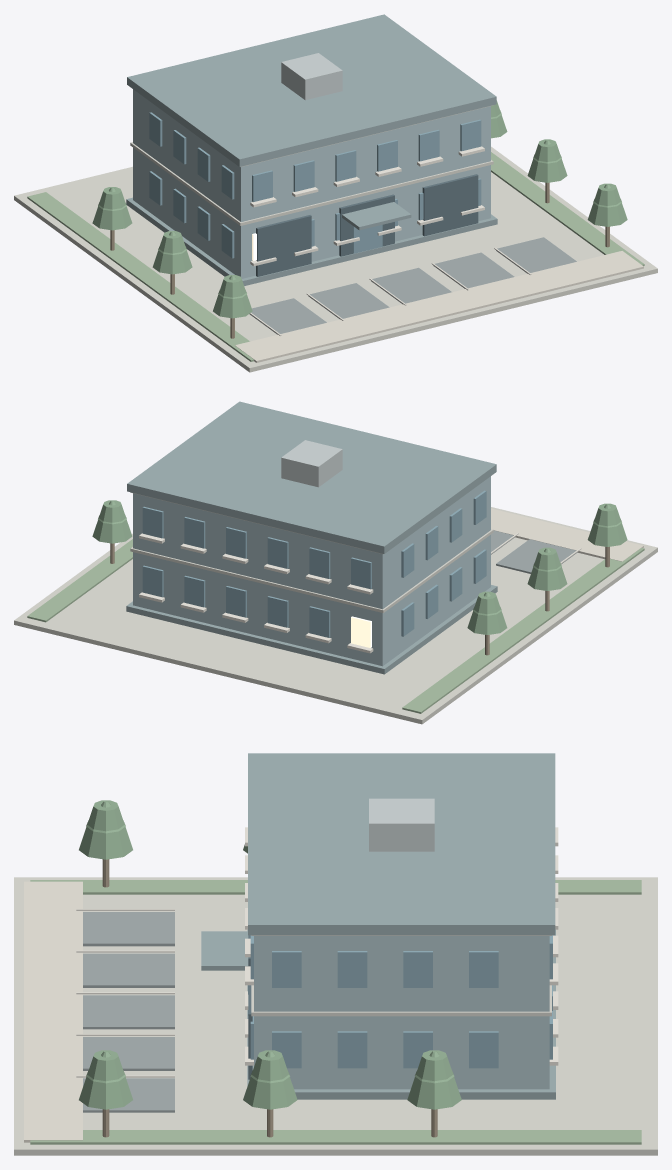
File: remaster_police.glb
3 views of the same model, one above another, from view 1: azimuth 30°, elevation 25°; view 2: azimuth 150°, elevation 25°; view 3: azimuth 270°, elevation 25° (orthographic). The views are drawn at different scales.
Visible parts, largest first — view 1: remaster_police roof, remaster_police stone, remaster_police blue, remaster_police cream, remaster_police asphalt, remaster_police glass, remaster_police green, remaster_police leaf, remaster_police dark, remaster_police metal, remaster_police white, remaster_police bark; view 2: remaster_police roof, remaster_police stone, remaster_police blue, remaster_police glass, remaster_police green, remaster_police leaf, remaster_police cream, remaster_police metal, remaster_police white, remaster_police asphalt, remaster_police warm; view 3: remaster_police stone, remaster_police roof, remaster_police blue, remaster_police cream, remaster_police asphalt, remaster_police green, remaster_police glass, remaster_police leaf, remaster_police metal, remaster_police white, remaster_police bark.
Part boxes in pixels (x1,y1,x2,y2): remaster_police roof: [126, 14, 497, 285]; remaster_police stone: [14, 105, 657, 372]; remaster_police blue: [133, 89, 490, 278]; remaster_police cream: [235, 251, 643, 362]; remaster_police asphalt: [249, 237, 576, 334]; remaster_police glass: [149, 112, 481, 258]; remaster_police green: [27, 152, 644, 361]; remaster_police leaf: [92, 100, 627, 318]; remaster_police dark: [256, 174, 478, 276]; remaster_police metal: [281, 53, 342, 100]; remaster_police white: [250, 146, 531, 336]; remaster_police bark: [110, 182, 609, 338]; remaster_police roof: [126, 401, 497, 674]; remaster_police stone: [14, 492, 657, 724]; remaster_police blue: [133, 476, 490, 666]; remaster_police glass: [142, 490, 486, 637]; remaster_police green: [27, 539, 644, 713]; remaster_police leaf: [92, 500, 627, 634]; remaster_police cream: [491, 508, 643, 561]; remaster_police metal: [281, 440, 342, 487]; remaster_police white: [139, 532, 581, 653]; remaster_police asphalt: [491, 530, 577, 573]; remaster_police warm: [351, 616, 371, 647]; remaster_police stone: [14, 877, 657, 1155]; remaster_police roof: [201, 753, 555, 1099]; remaster_police blue: [254, 936, 549, 1089]; remaster_police cream: [24, 881, 82, 1142]; remaster_police asphalt: [83, 912, 174, 1112]; remaster_police green: [30, 880, 641, 1144]; remaster_police glass: [248, 935, 552, 1068]; remaster_police leaf: [79, 800, 461, 1109]; remaster_police metal: [369, 798, 434, 851]; remaster_police white: [76, 827, 558, 1077]; remaster_police bark: [102, 859, 437, 1137].
Bounding box in the file's own units: 19.65 × 7 × 19.6.
